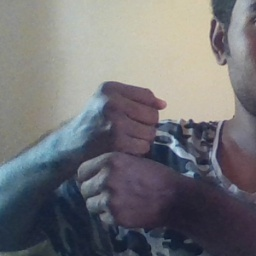G: (71, 78, 178, 233)
